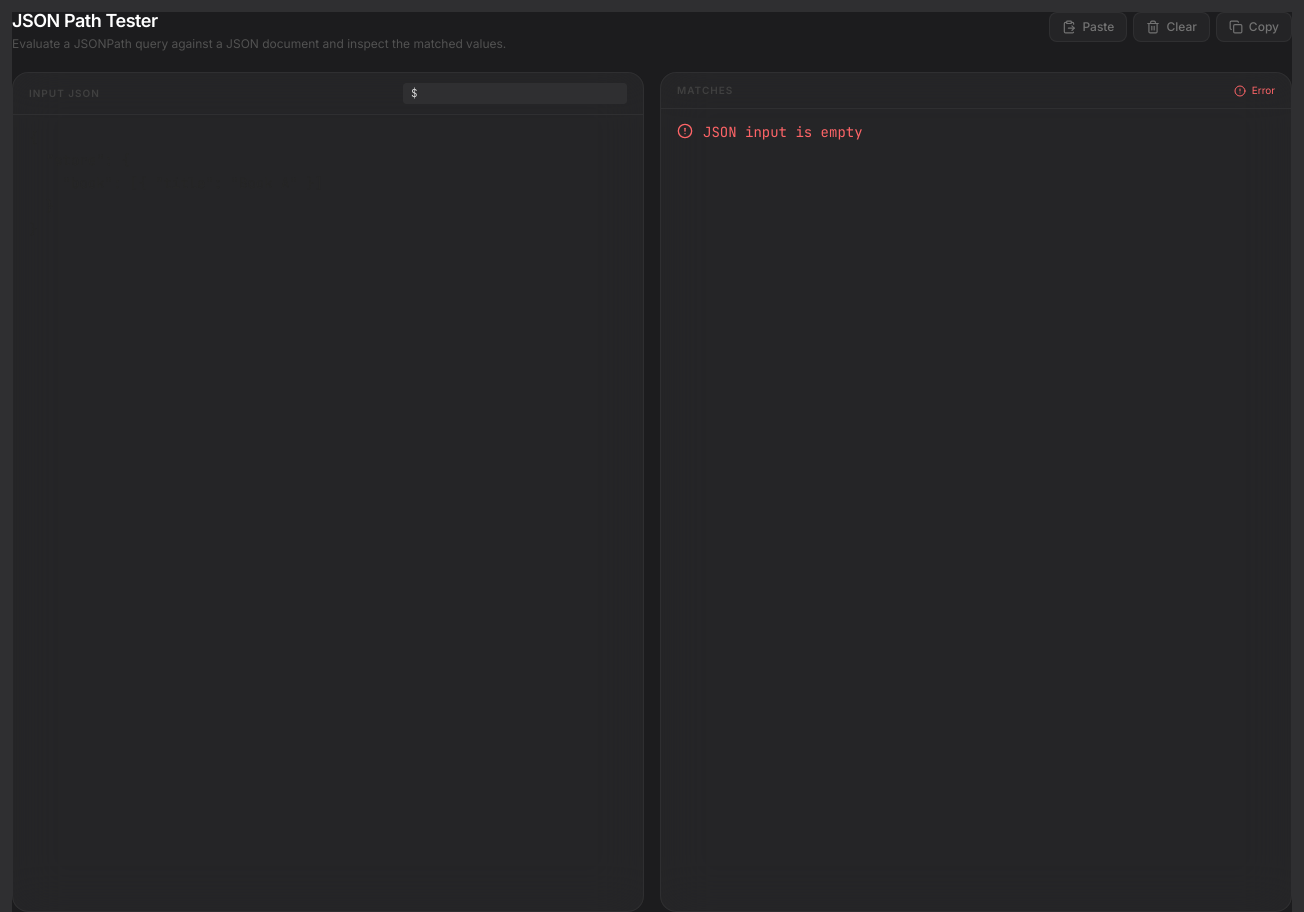
Scenario: JsonPathTesterTool › pastes text when Paste button is clicked
Click the button titled "Paste from clipboard" at (1088, 27), box left=1049, top=12, right=1127, bottom=42
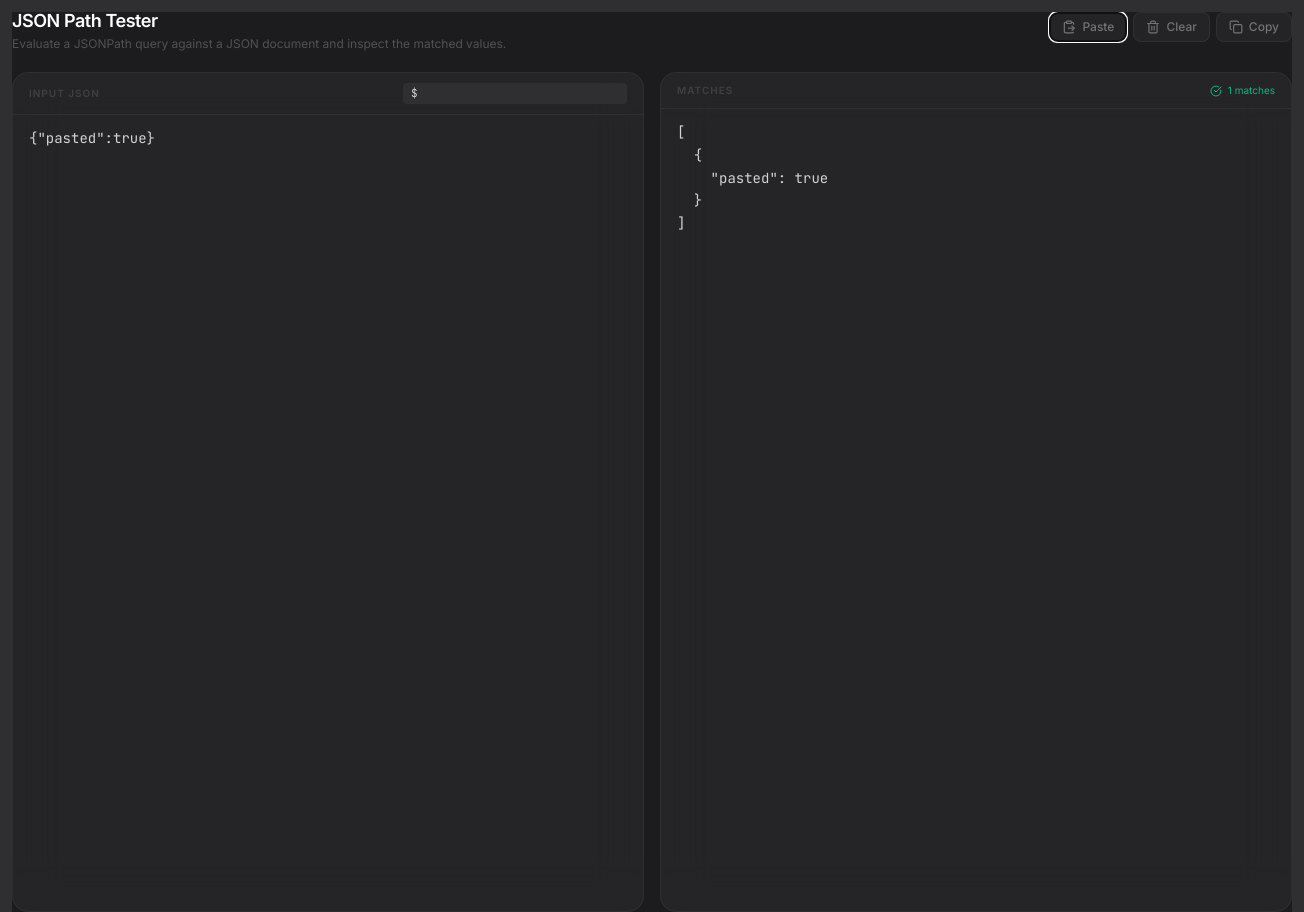
expect the text box with placeholder "{ \"store\": { \"book\": [{ \"title\": \"Book A\" }] } }" holds "{\"pasted\":true}": met, box left=13, top=114, right=643, bottom=911
